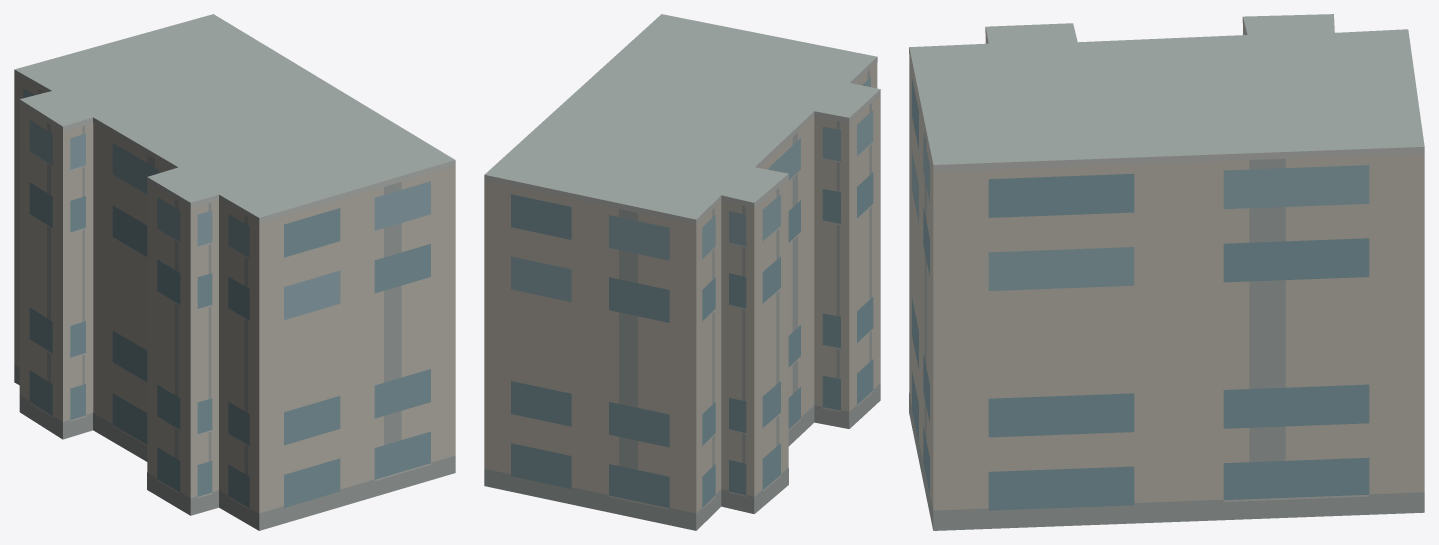
The model's file is survey-upis-32757679.glb.
The picture shows the model from 3 angles, left to right: view 1: azimuth 30°, elevation 25°; view 2: azimuth 150°, elevation 25°; view 3: azimuth 270°, elevation 25°; orthographic projection. The views are drawn at different scales.
Parts seen in each view (by area): view 1: survey-upis-32757679.tmp; view 2: survey-upis-32757679.tmp; view 3: survey-upis-32757679.tmp.
Boxes of the visible parts, left/top/right/bottom form: survey-upis-32757679.tmp: left=14, top=14, right=455, bottom=530; survey-upis-32757679.tmp: left=484, top=14, right=880, bottom=530; survey-upis-32757679.tmp: left=909, top=14, right=1424, bottom=530.
Bounding box in the file's own units: 11.69 × 13.2 × 16.86.
